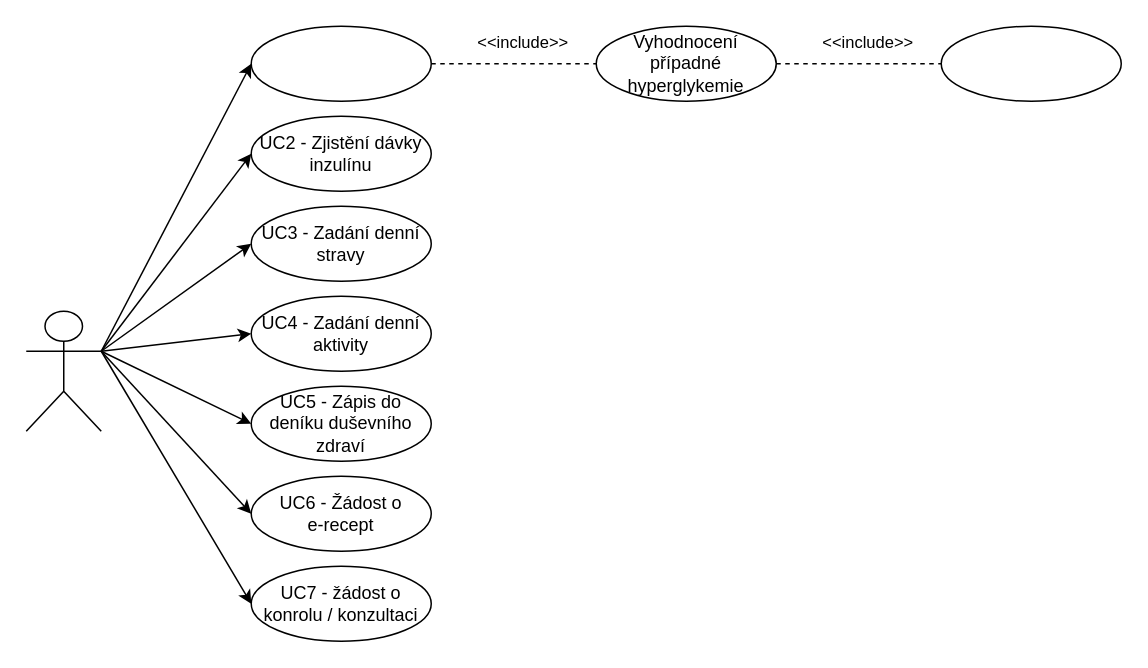
Image size: 1148x668. Some labels were removed from this diagram. The centre of each missing label's shape, as x and y in pixels:
UC1 - Zadání změřené dodávky: the point at 340,63
Uživatel: the point at 63,370
Vypočítání vhodnou dávku inzulínu: the point at 1030,63
